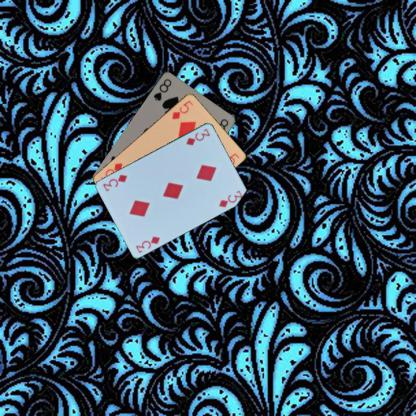3d: (183, 126, 212, 147), (134, 233, 161, 254)
5d: (169, 98, 194, 120)
8s: (151, 76, 173, 102)
